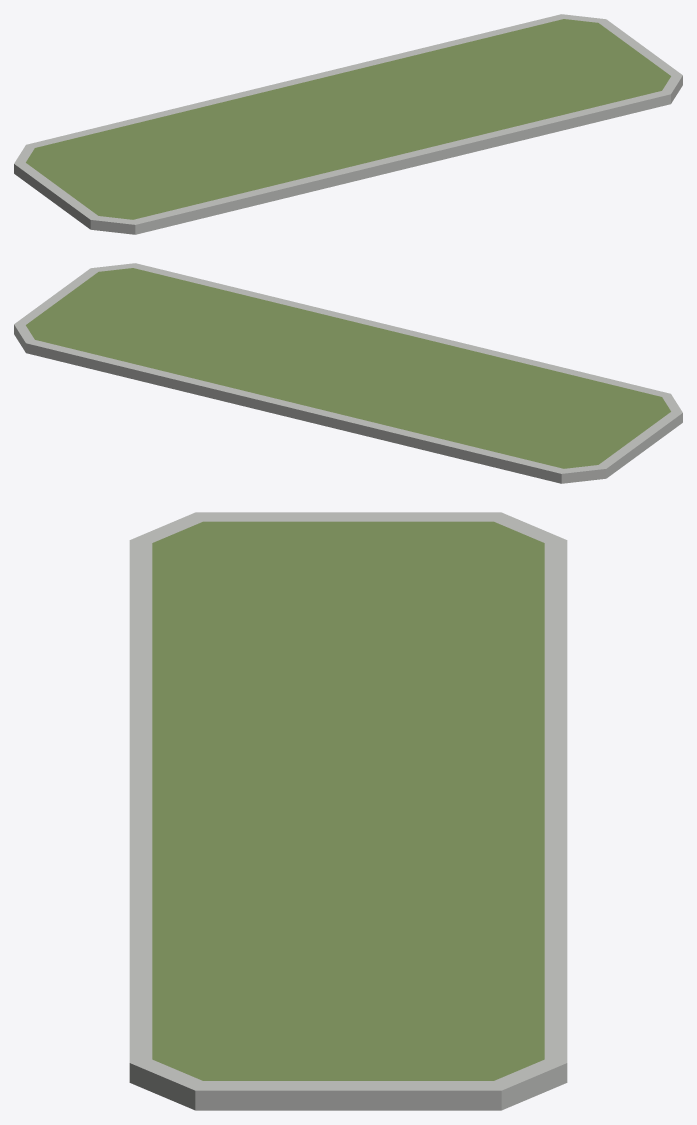
Rendered from GREEN_VERGE_01.glb.
3 views of the same model, one above another, from view 1: azimuth 30°, elevation 25°; view 2: azimuth 150°, elevation 25°; view 3: azimuth 270°, elevation 25° (orthographic). The views are drawn at different scales.
Visible parts, largest first — view 1: CIVRUM_GAME_GREEN_VERGE_01; view 2: CIVRUM_GAME_GREEN_VERGE_01; view 3: CIVRUM_GAME_GREEN_VERGE_01.
Boxes of the visible parts, x1,y1,x2,y2 form: CIVRUM_GAME_GREEN_VERGE_01: (14,14,682,234); CIVRUM_GAME_GREEN_VERGE_01: (14,263,682,483); CIVRUM_GAME_GREEN_VERGE_01: (129,512,567,1110).
Bounding box in the file's own units: 10 × 0.162 × 3.2.
